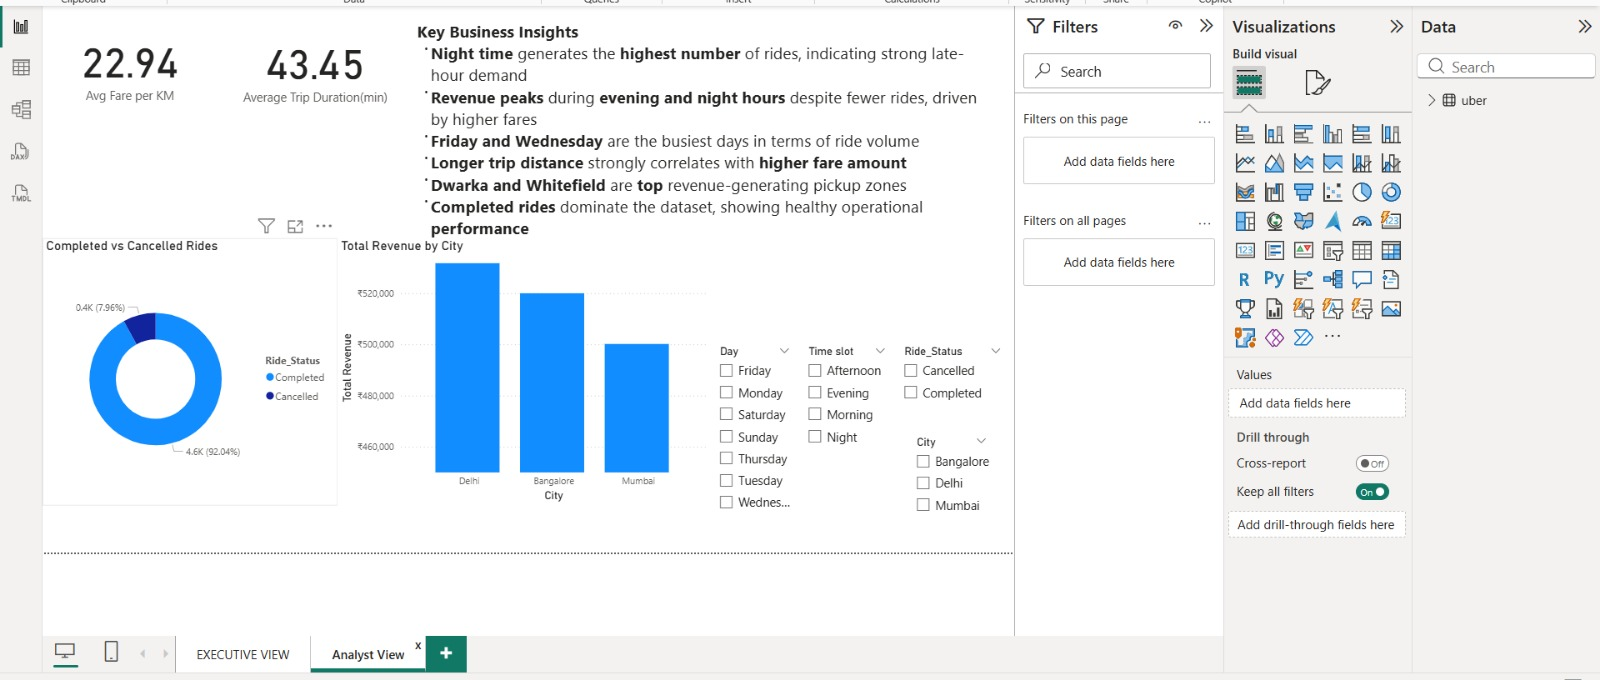

The page's visual inventory and layout, read from the dashboard file:
{"tool":"powerbi","page":{"name":"Analyst View","canvas":[1280,720],"ordinal":1},"visuals":[{"type":"textbox","box":[488.5,13.7,752,321.1],"z":0},{"type":"card","fields":{"Values":["uber.Avg Fare per KM"]},"box":[0,0,230.5,159.2],"z":1000},{"type":"slicer","fields":{"Values":["uber.City"]},"box":[1138.9,560.8,116.6,159.2],"z":2000},{"type":"slicer","fields":{"Values":["uber.Day"]},"box":[879.6,441.8,116.6,240.1],"z":3000},{"type":"slicer","fields":{"Values":["uber.Time slot"]},"box":[996.2,441.8,126.2,171.5],"z":4000},{"type":"slicer","fields":{"Values":["uber.Ride_Status"]},"box":[1122.2,441.8,152.3,100.2],"z":5000},{"type":"donutChart","title":"Completed vs Cancelled Rides","fields":{"Category":["uber.Ride_Status"],"Y":["CountNonNull(uber.Ride_ID)"]},"box":[0,306,388.3,352.7],"z":6000},{"type":"card","fields":{"Values":["uber.Average Trip Duration(min)"]},"box":[230.5,4.1,258,155.1],"z":7000},{"type":"clusteredColumnChart","fields":{"Category":["uber.City"],"Y":["uber.Total Revenue"]},"box":[388.3,306,491.3,352.7],"z":8000}]}

Visuals, with their boxes on the page's 1280x720 design canvas (x1, y1, x2, y2). These are canvas units, not pixel positions in the 1600x680 screenshot, which may show the page scaled, cropped or inside an application window:
textbox: BBox(488, 14, 1240, 335)
card - uber.Avg Fare per KM: BBox(0, 0, 230, 159)
slicer - uber.City: BBox(1139, 561, 1256, 720)
slicer - uber.Day: BBox(880, 442, 996, 682)
slicer - uber.Time slot: BBox(996, 442, 1122, 613)
slicer - uber.Ride_Status: BBox(1122, 442, 1274, 542)
"Completed vs Cancelled Rides" donutChart: BBox(0, 306, 388, 659)
card - uber.Average Trip Duration(min): BBox(230, 4, 488, 159)
clusteredColumnChart - uber.City x uber.Total Revenue: BBox(388, 306, 880, 659)
